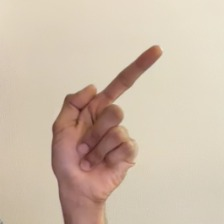G: (48, 35, 167, 208)
